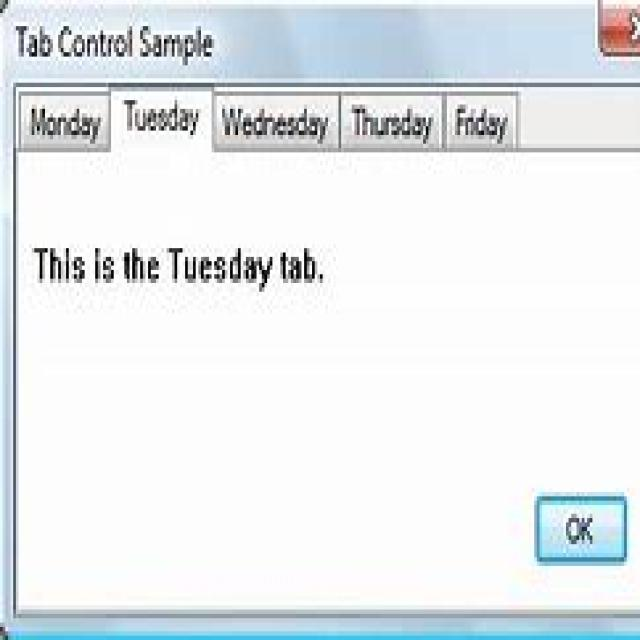button: (533, 488, 630, 568), (590, 0, 637, 57)
label: (25, 237, 328, 303), (9, 16, 218, 68)
tabControl: (9, 77, 640, 157)
